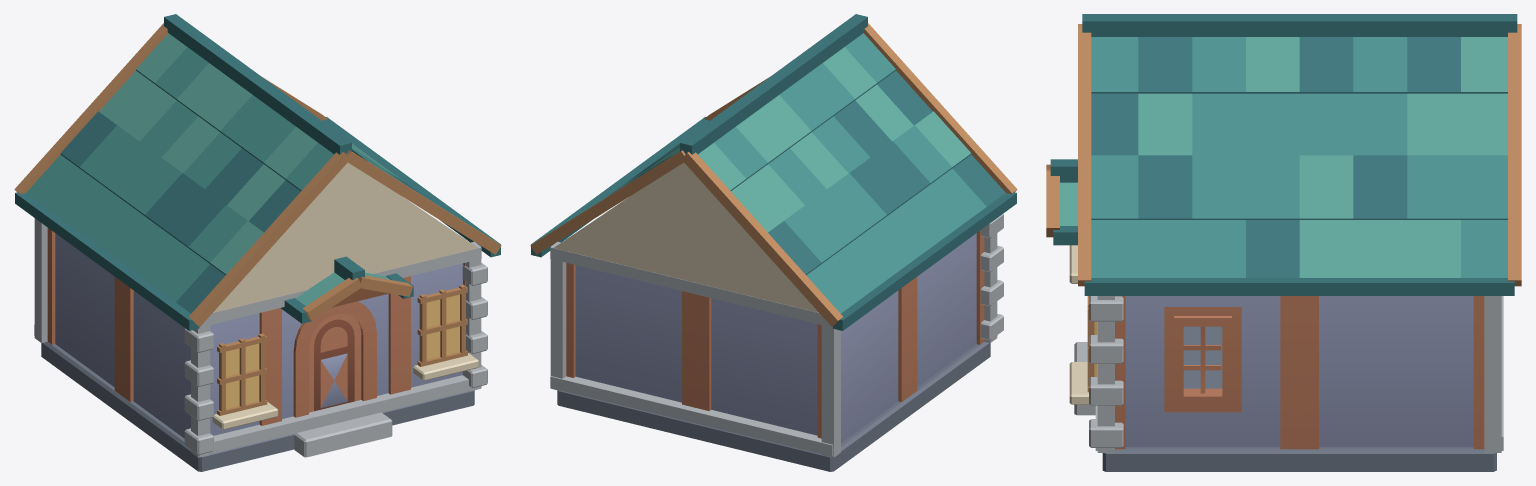
File: house_b.glb
3 renders of one model, left to right at view 1: azimuth 30°, elevation 25°; view 2: azimuth 150°, elevation 25°; view 3: azimuth 270°, elevation 25°, orthographic. The views are drawn at different scales.
Visible parts, largest first — view 1: house_b_建筑共用调色板, house_b_fantasy-town-kit 调色板; view 2: house_b_建筑共用调色板, house_b_fantasy-town-kit 调色板; view 3: house_b_建筑共用调色板, house_b_fantasy-town-kit 调色板.
Boxes of the visible parts, <box> form: house_b_建筑共用调色板: <box>14,14,501,471</box>; house_b_fantasy-town-kit 调色板: <box>47,228,465,438</box>; house_b_建筑共用调色板: <box>530,14,1017,471</box>; house_b_fantasy-town-kit 调色板: <box>566,230,984,442</box>; house_b_建筑共用调色板: <box>1046,14,1521,471</box>; house_b_fantasy-town-kit 调色板: <box>1115,296,1484,449</box>.
Size of the model in its own units: 4.6 by 4.24 by 4.92.
Materials: 2 (2 with a texture image).
